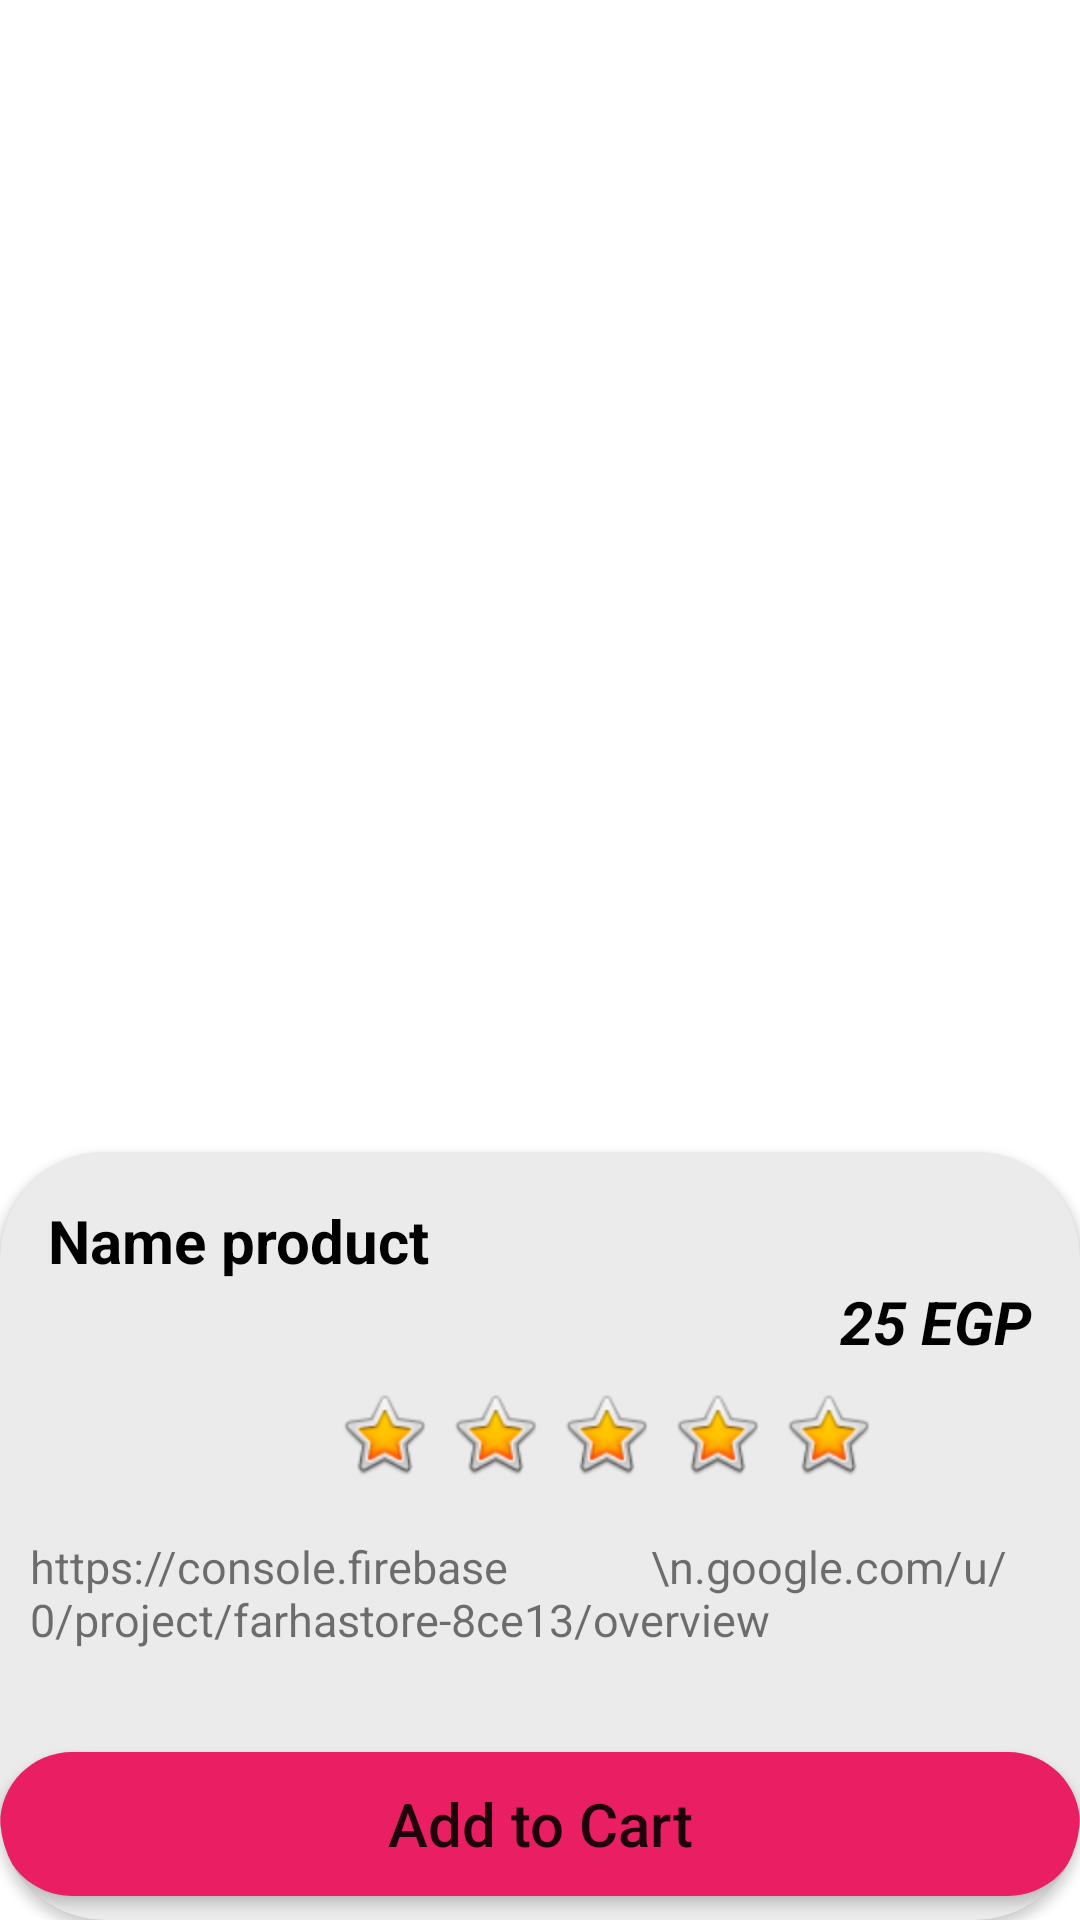

Named icons in this screenshot (1080 × 1920) and their centers, point (x, y):
star on: point (385, 1435), point (496, 1435), point (607, 1435), point (718, 1435), point (829, 1435)
